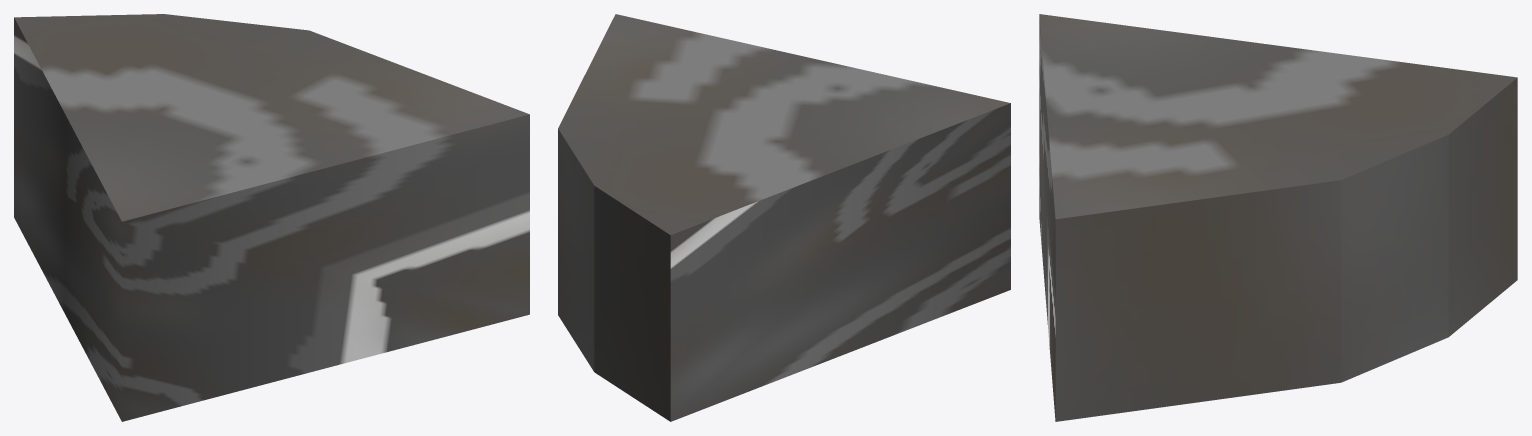
File: ishi_02.fbx
3 views of the same model, side by side, from view 1: azimuth 30°, elevation 25°; view 2: azimuth 150°, elevation 25°; view 3: azimuth 270°, elevation 25° (orthographic). The views are drawn at different scales.
Parts seen in each view (by area): view 1: ishi_02; view 2: ishi_02; view 3: ishi_02.
Boxes of the visible parts, x1=… form: ishi_02: x1=14, y1=14, x2=529, y2=421; ishi_02: x1=558, y1=14, x2=1010, y2=421; ishi_02: x1=1039, y1=14, x2=1517, y2=421.
Size of the model in its own units: 10.13 by 4.66 by 9.97.
Materials: 1 (1 with a texture image).
